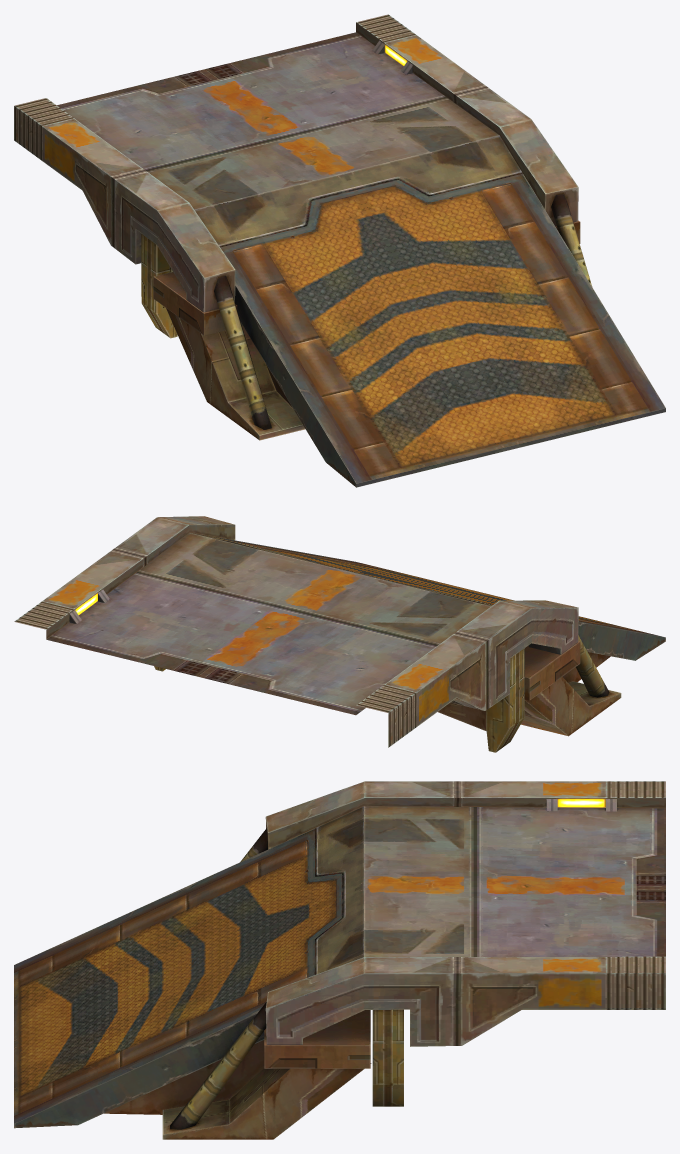
File: all_arch_und_bridge_ramp.glb
3 views of the same model, one above another, from view 1: azimuth 30°, elevation 25°; view 2: azimuth 150°, elevation 25°; view 3: azimuth 270°, elevation 25° (orthographic). The views are drawn at different scales.
Visible parts, largest first — view 1: all_arch_und_bridge_ramp; view 2: all_arch_und_bridge_ramp; view 3: all_arch_und_bridge_ramp.
Part boxes in pixels (left/top/right/bottom): all_arch_und_bridge_ramp: left=14, top=14, right=665, bottom=487; all_arch_und_bridge_ramp: left=14, top=516, right=665, bottom=752; all_arch_und_bridge_ramp: left=14, top=781, right=665, bottom=1139.
Size of the model in its own units: 1.01 by 0.4161 by 1.43.
1 material, 1 textured.
